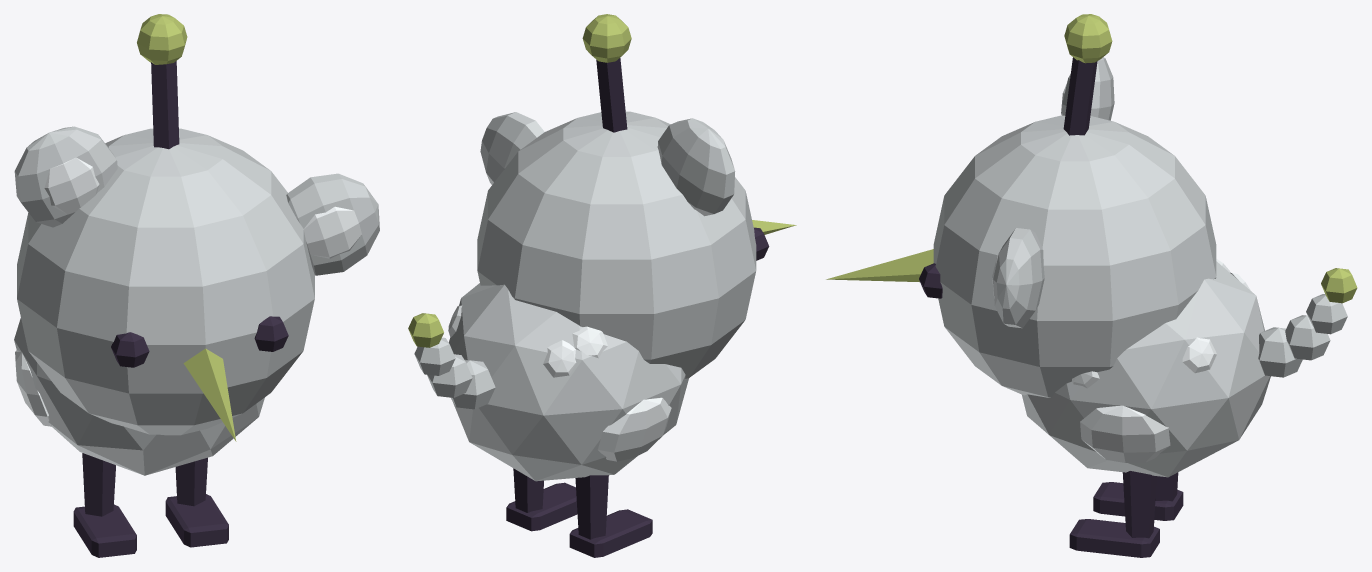
File: bird-factory-2.glb
The picture shows the model from 3 angles, left to right: view 1: azimuth 30°, elevation 25°; view 2: azimuth 150°, elevation 25°; view 3: azimuth 270°, elevation 25°; orthographic projection. The views are drawn at different scales.
Parts seen in each view (by area): view 1: bird-factory-2; view 2: bird-factory-2; view 3: bird-factory-2.
Part boxes in pixels (x1=…): bird-factory-2: x1=14, y1=14, x2=379, y2=557; bird-factory-2: x1=408, y1=14, x2=796, y2=557; bird-factory-2: x1=826, y1=14, x2=1357, y2=557.
Bounding box in the file's own units: 0.554 × 0.9 × 0.8541.
